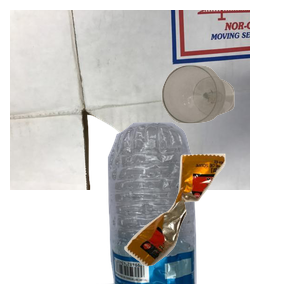cardboard: (10, 10, 250, 190)
glass: (159, 63, 300, 179)
plastic: (96, 120, 285, 300)
trash: (122, 151, 300, 300)
